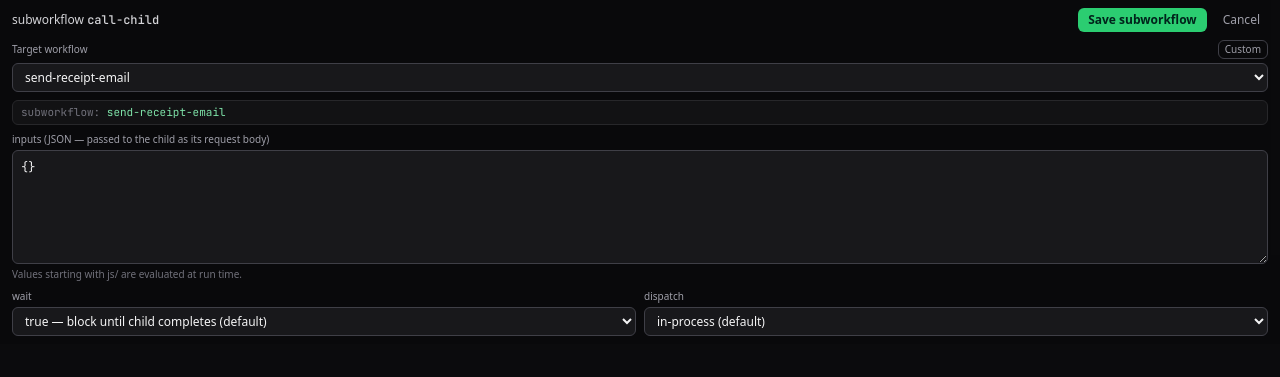
Test: SubworkflowEditor — structural save › rejects invalid inputs JSON before saving
The image size is (1280, 377).
Replace the text in the text box labelled "inputs" with "not valid json". click: point(640, 207)
box: [12,150,1268,264]
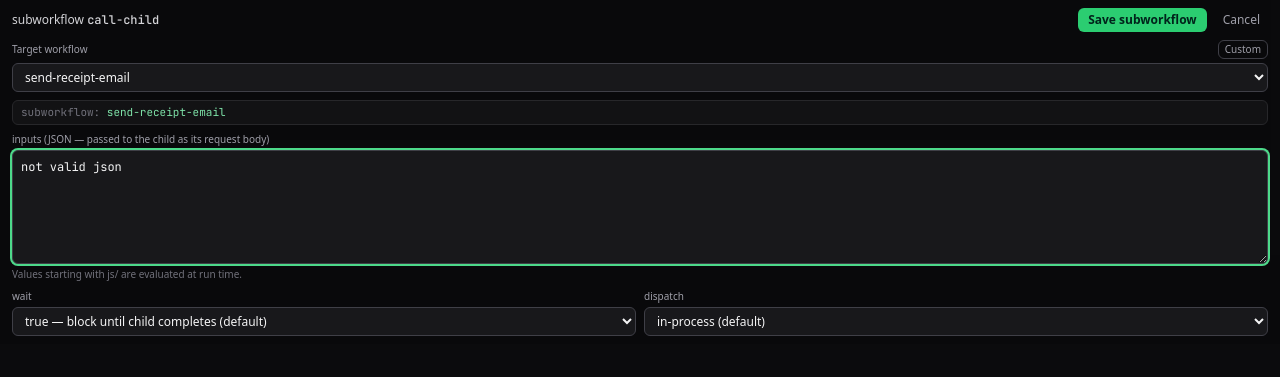
Click the button "Save subworkflow". click: point(1142, 20)
box: [1078,8,1207,32]
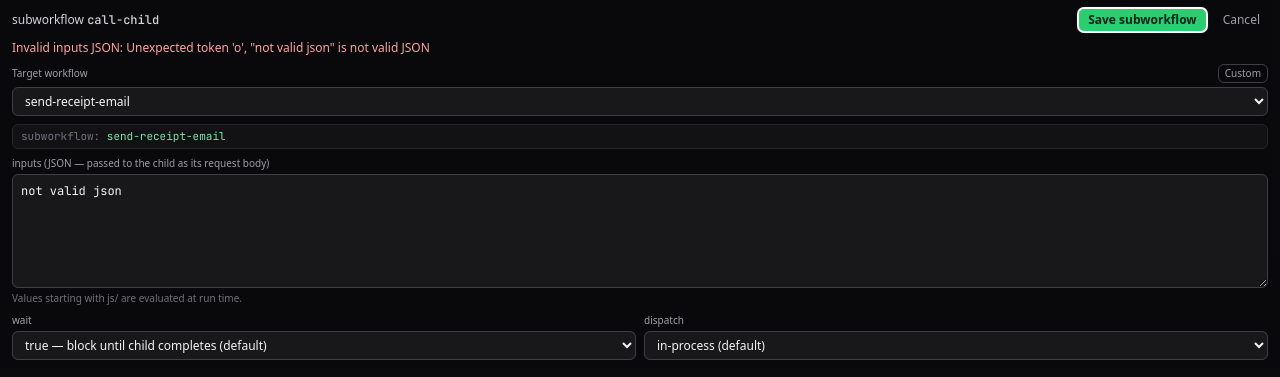
Expected: the text "Invalid inputs JSON" is shown, [12,39,430,56]
